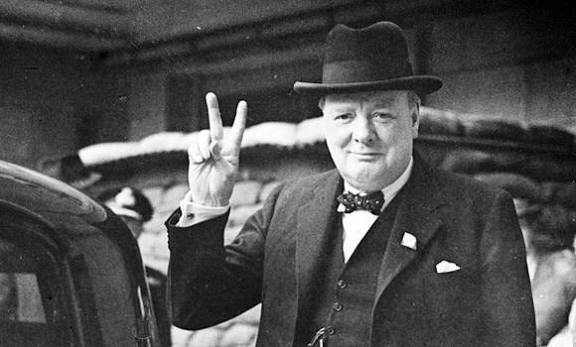peace_sign: (173, 90, 257, 201)
